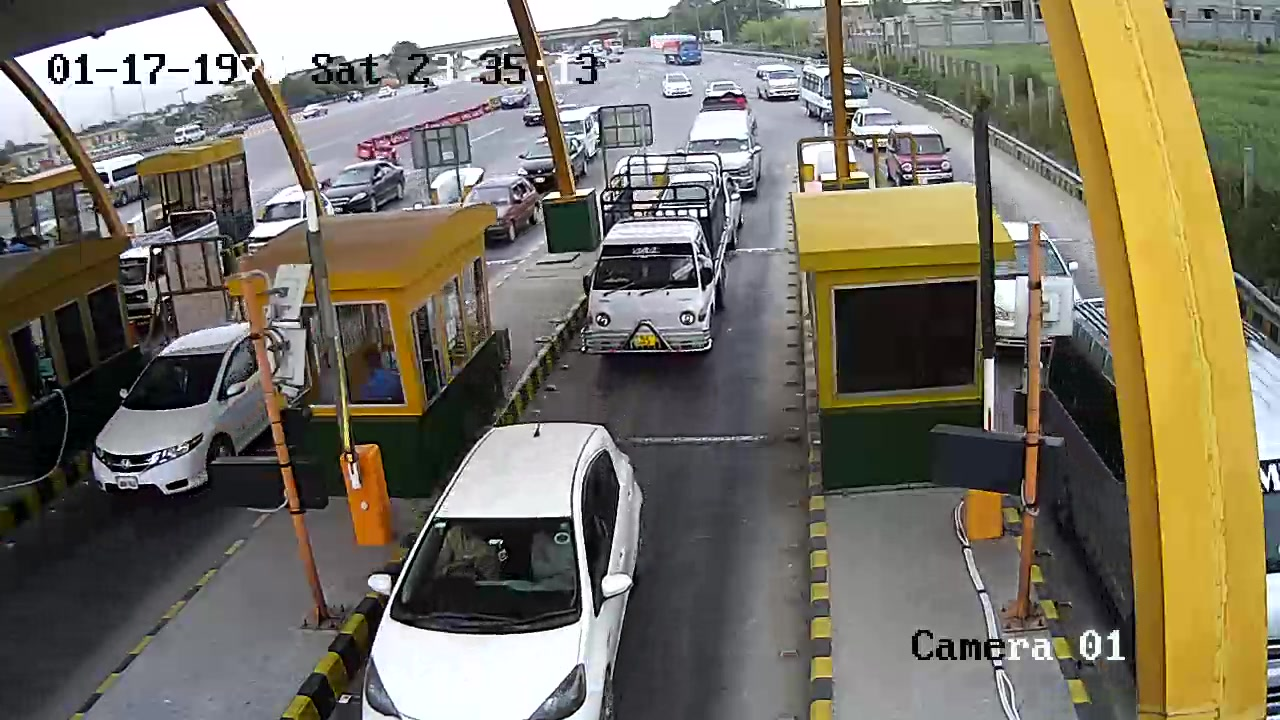F2: (580, 153, 737, 357)
